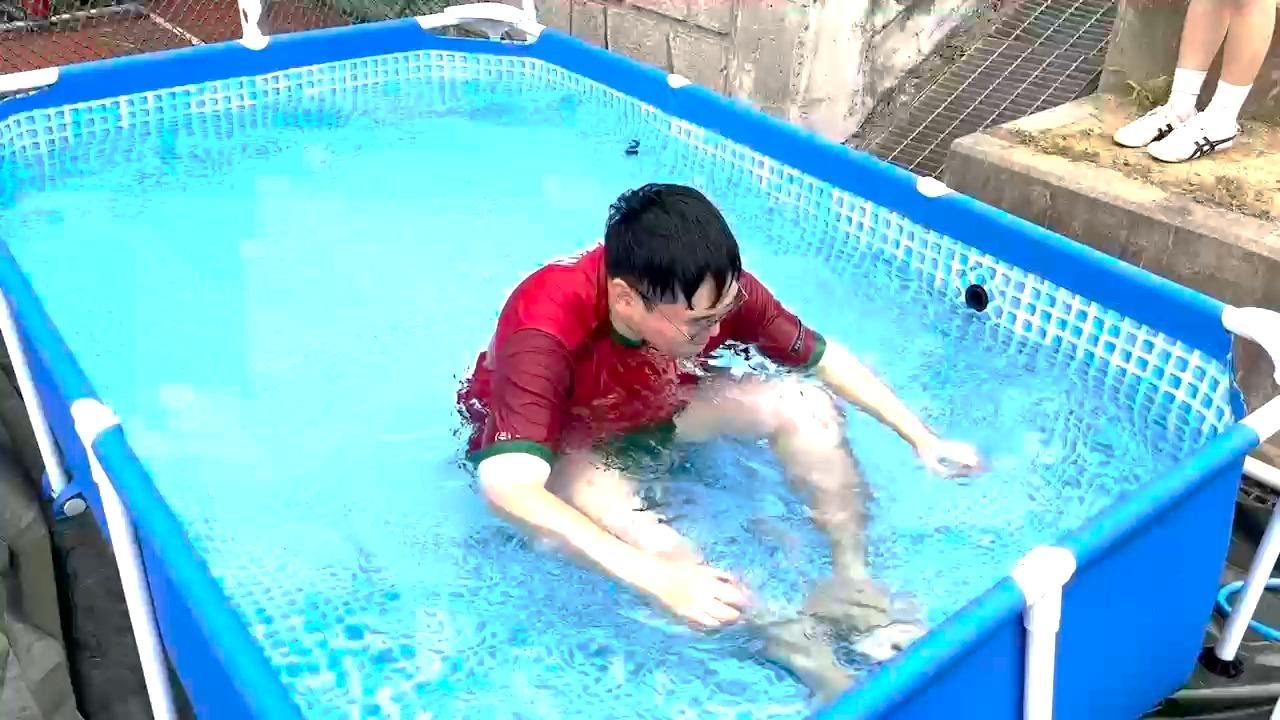Swimming: (405, 159, 957, 657)
